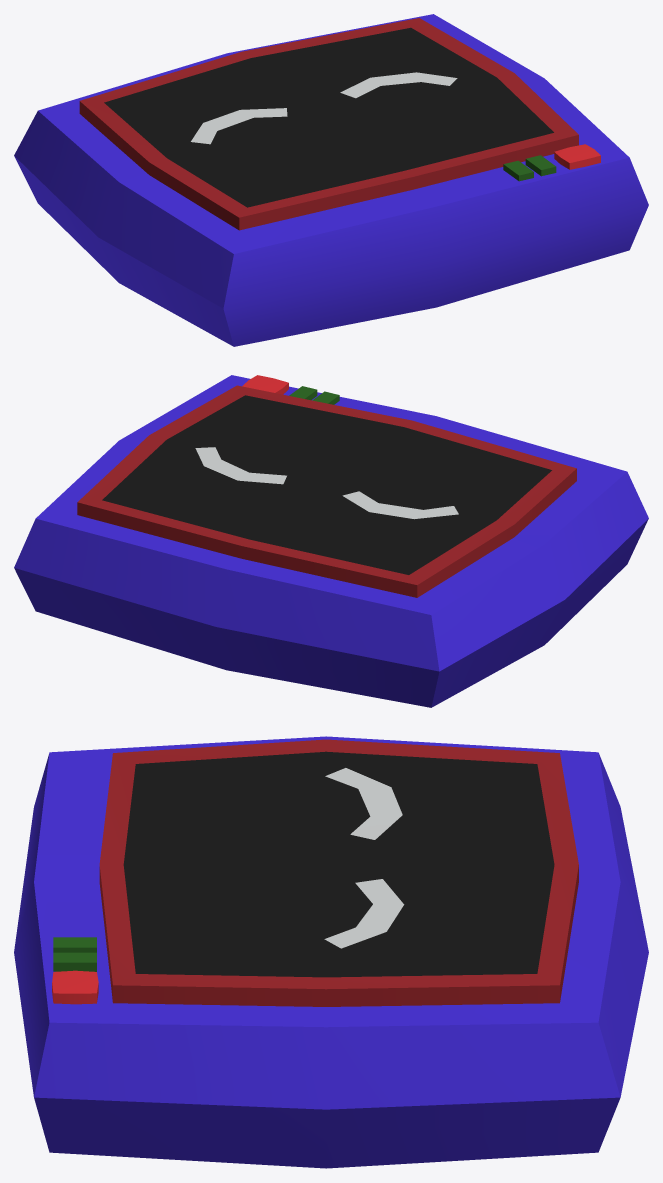
File: Head 09.FBX
The picture shows the model from 3 angles, top to bottom: view 1: azimuth 30°, elevation 25°; view 2: azimuth 150°, elevation 25°; view 3: azimuth 270°, elevation 25°; orthographic projection. The views are drawn at different scales.
Parts seen in each view (by area): view 1: Head 09; view 2: Head 09; view 3: Head 09.
Part boxes in pixels (left/top/right/bottom): Head 09: left=14, top=14, right=648, bottom=346; Head 09: left=14, top=375, right=648, bottom=707; Head 09: left=14, top=736, right=648, bottom=1168.
Bounding box in the file's own units: 97.51 × 24.75 × 82.59.
1 material, 1 textured.
